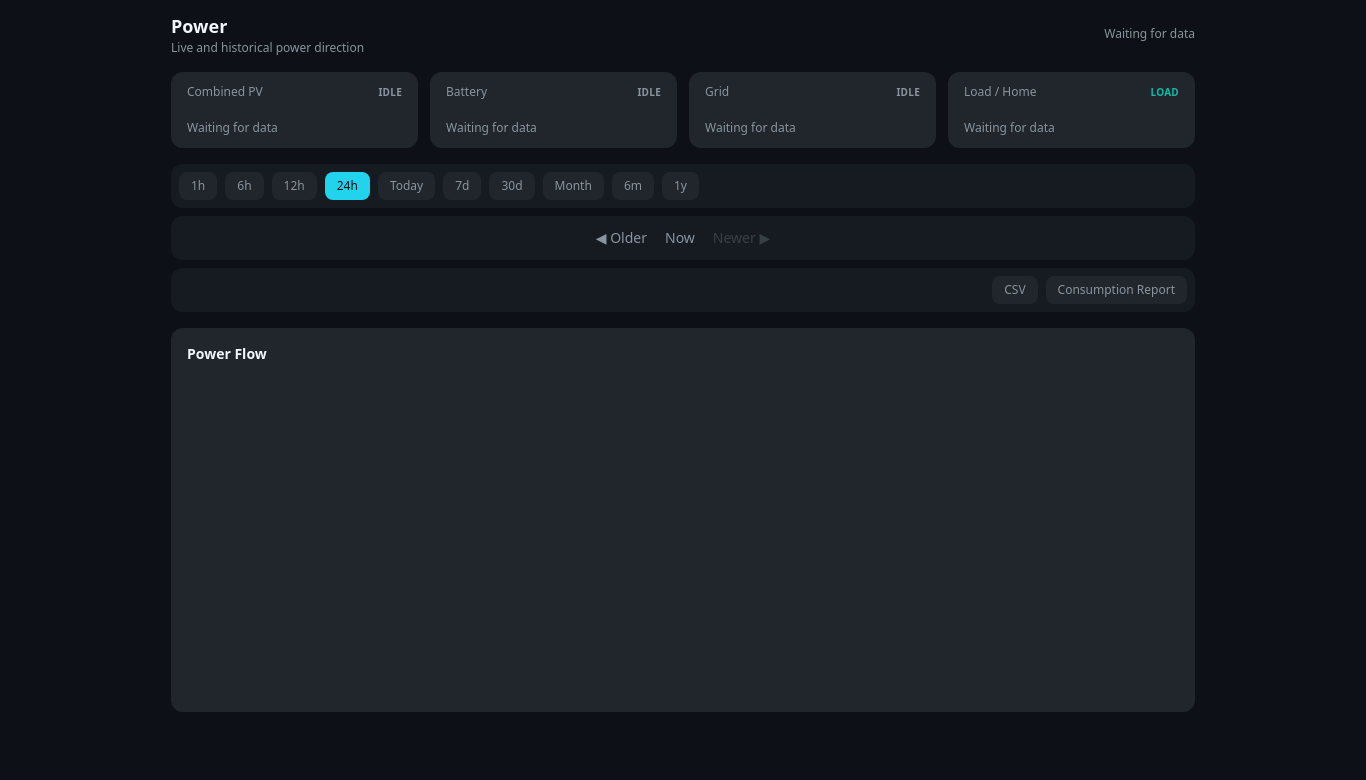
Test case: <PowerPage/> — spike removal, cost overlay, PDF export › Consumption Report export › flashes a CSV export toast with the period label
Click the button "CSV" at point(1015, 290), box [992,276,1038,304]
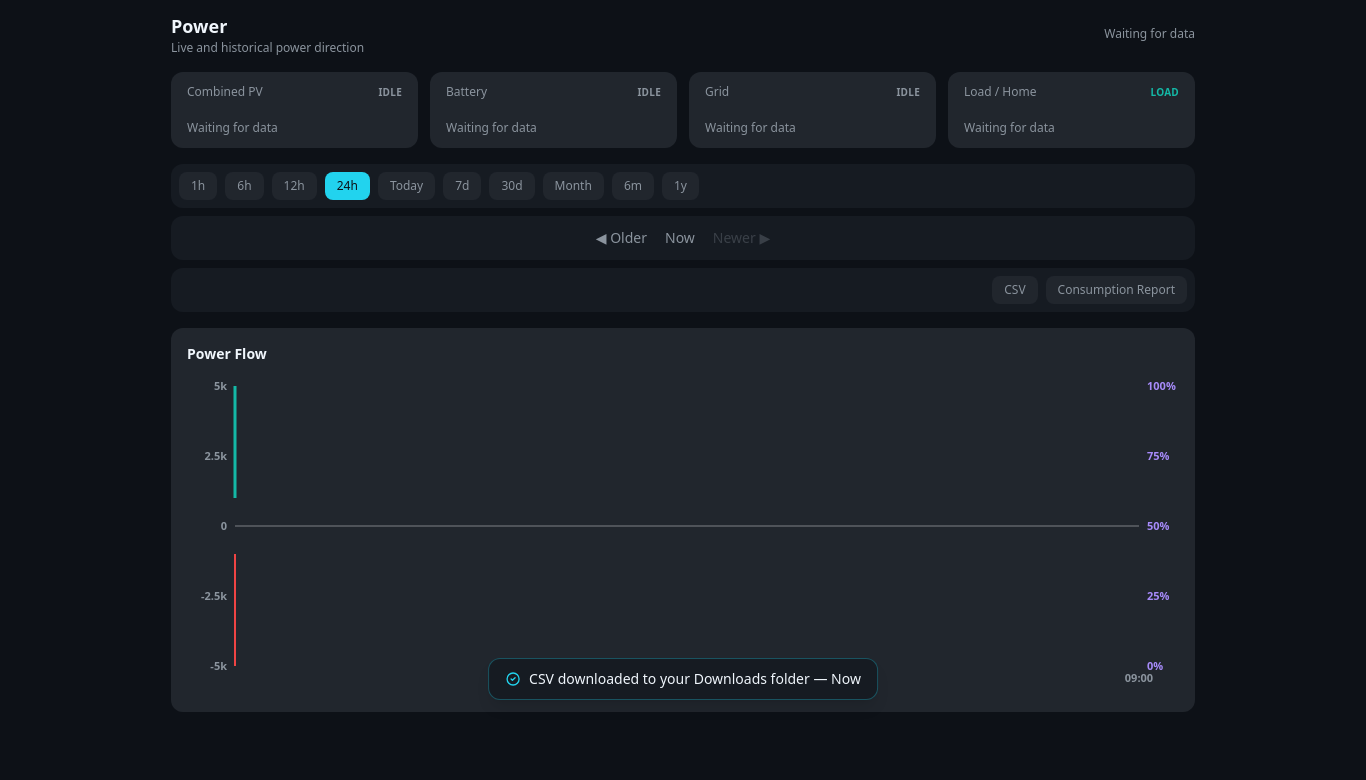
Result: the text "CSV downloaded to your Downloads folder — Now" is shown at [488,658,878,700]
